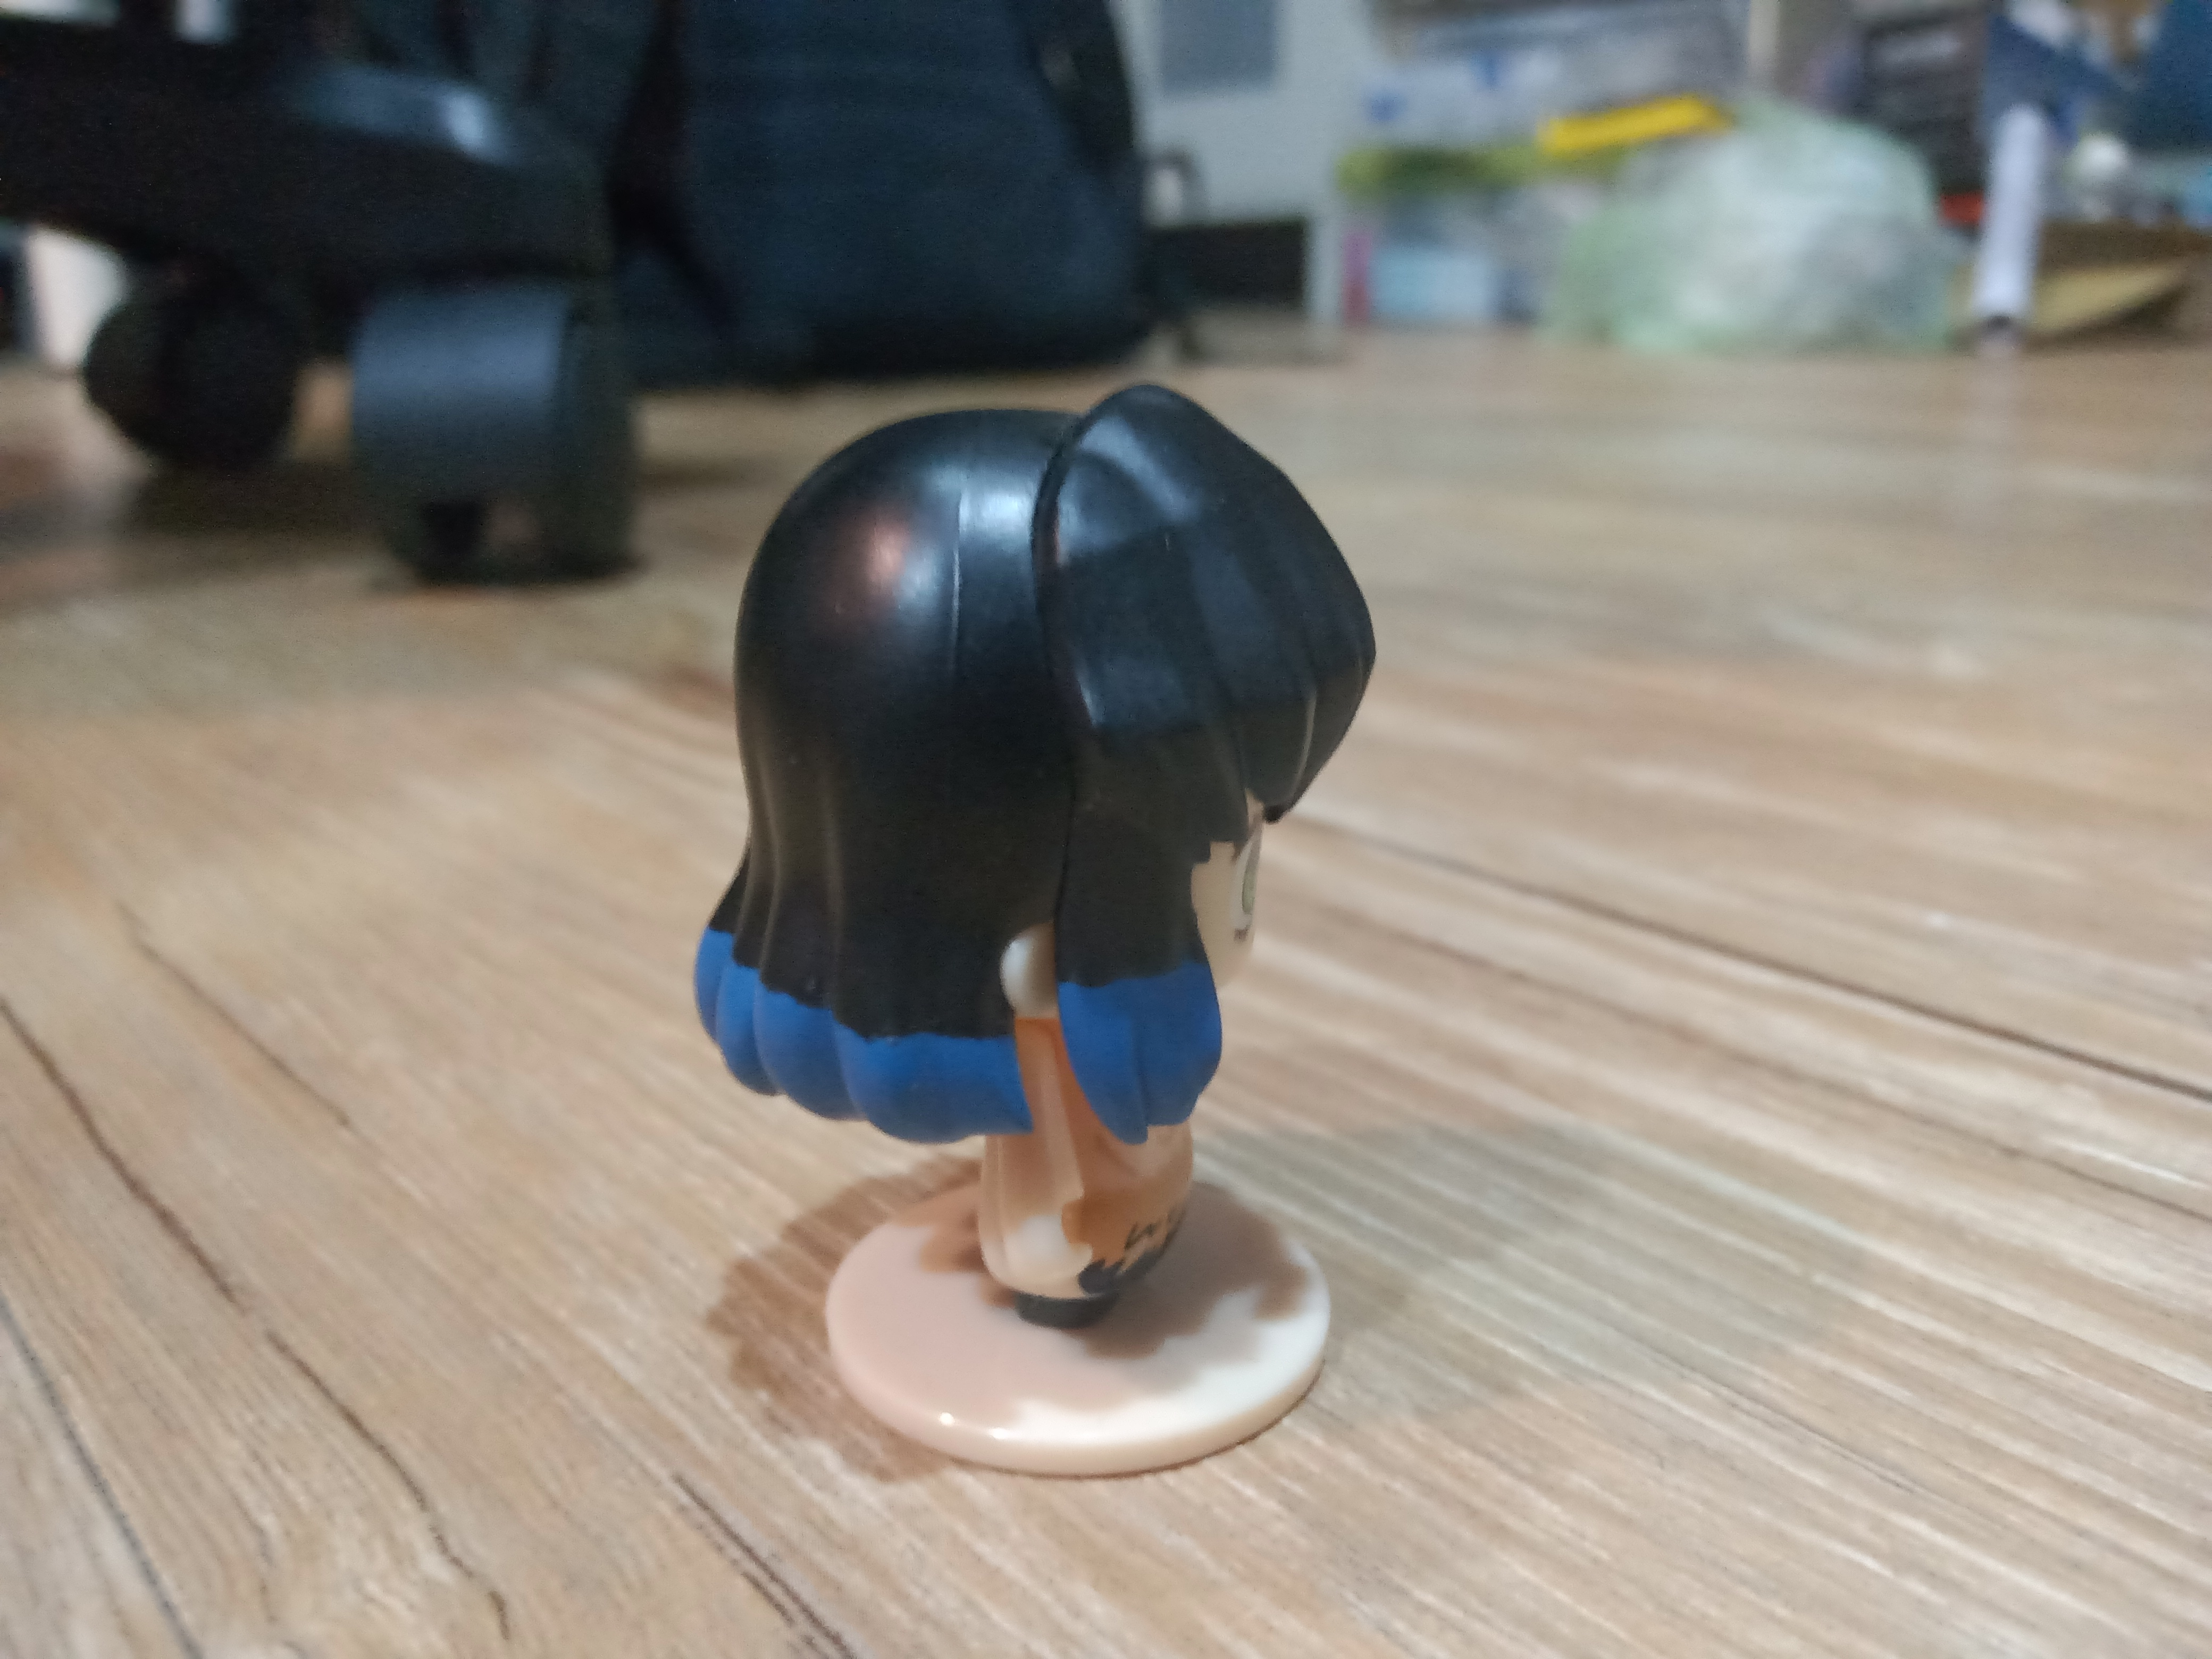Inosuke: (672, 368, 1402, 1490)
